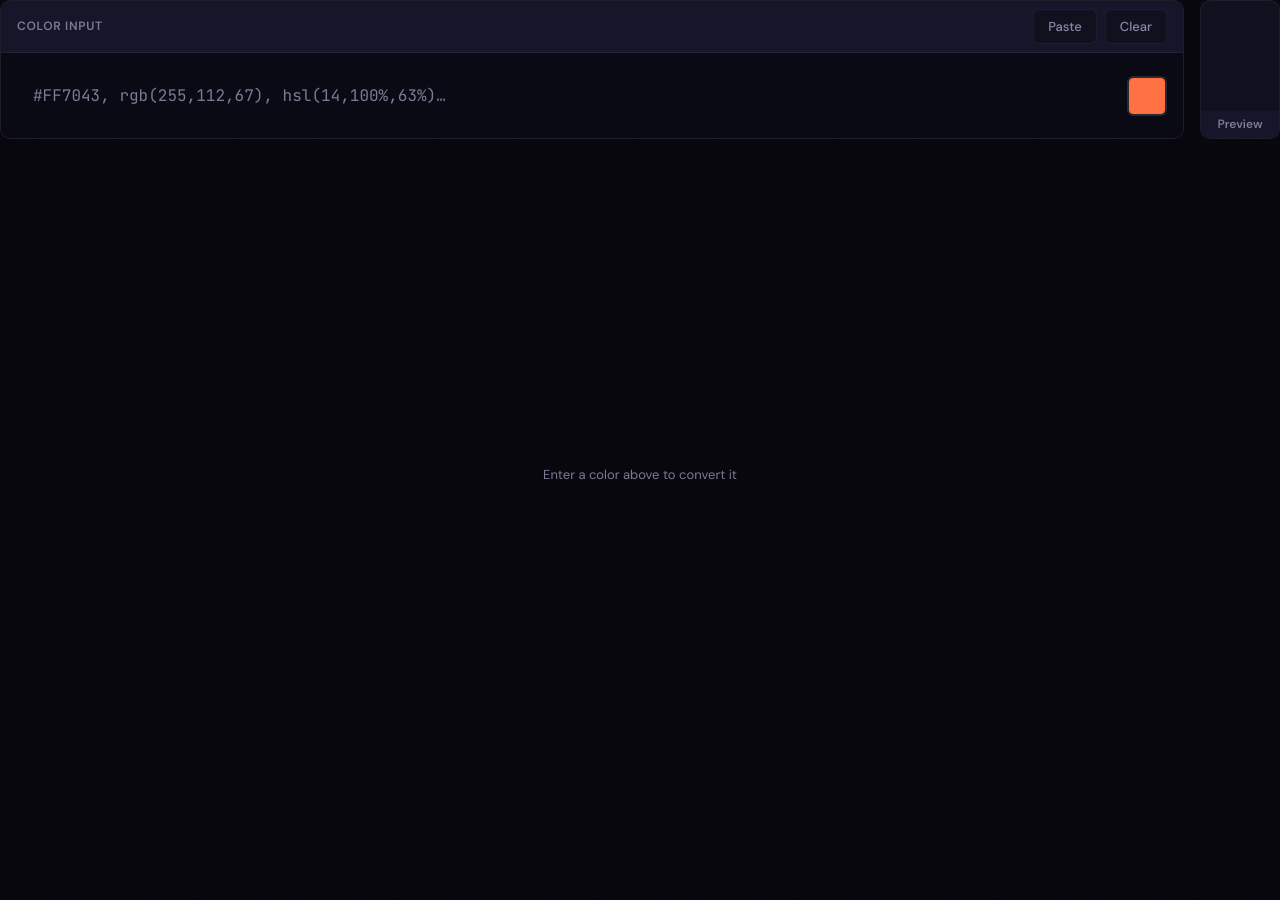
Test case: ColorConverter › converts hsl string
The width and height of the screenshot is (1280, 900).
Type "hsl(120, 100%, 50%)" into the field named "color value input" at {"x": 564, "y": 96}, box [17,69,1111,122]
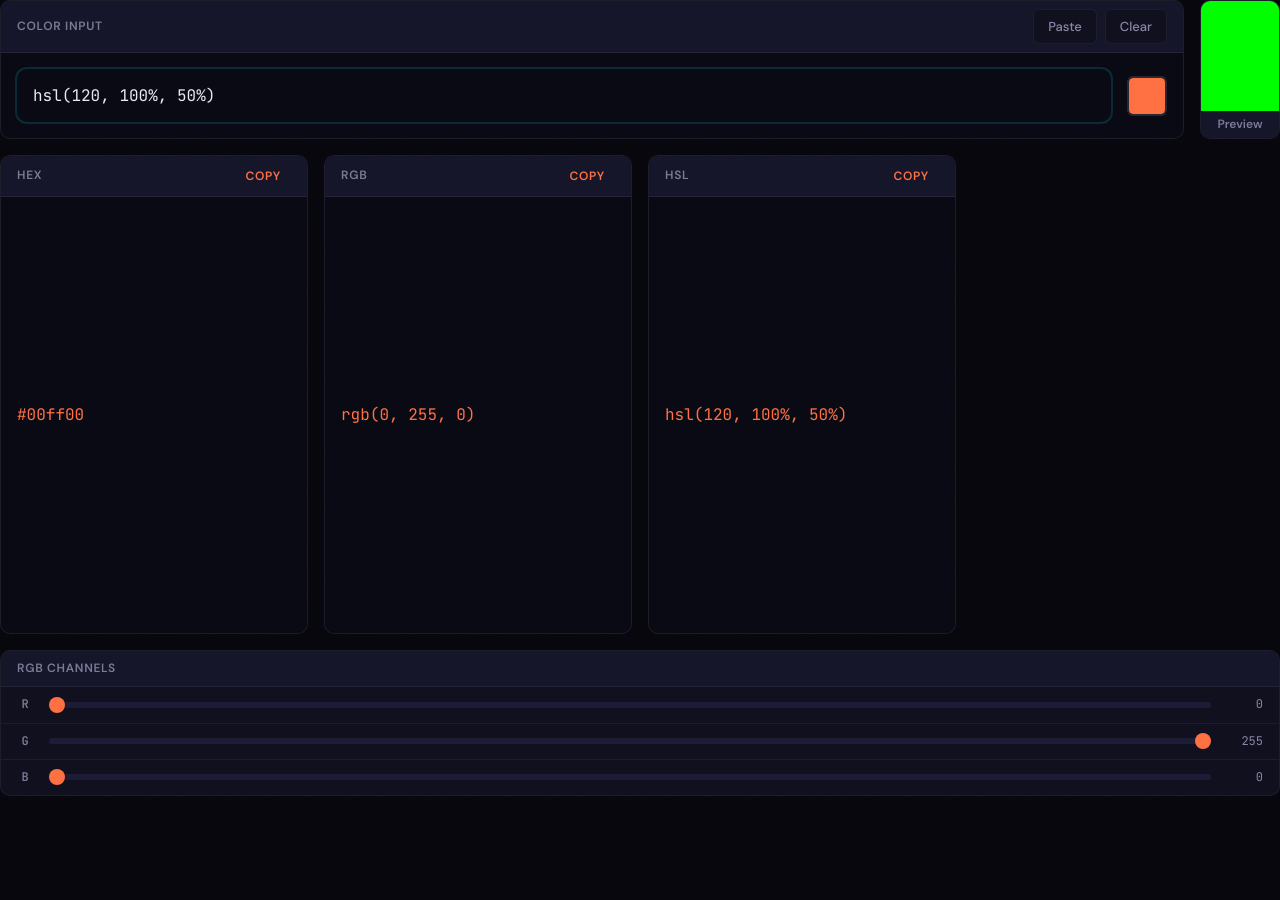
Expected: the text "#00ff00" is shown, [1,197,307,633]
Expected: the text "rgb(0, 255, 0)" is shown, [325,197,631,633]
